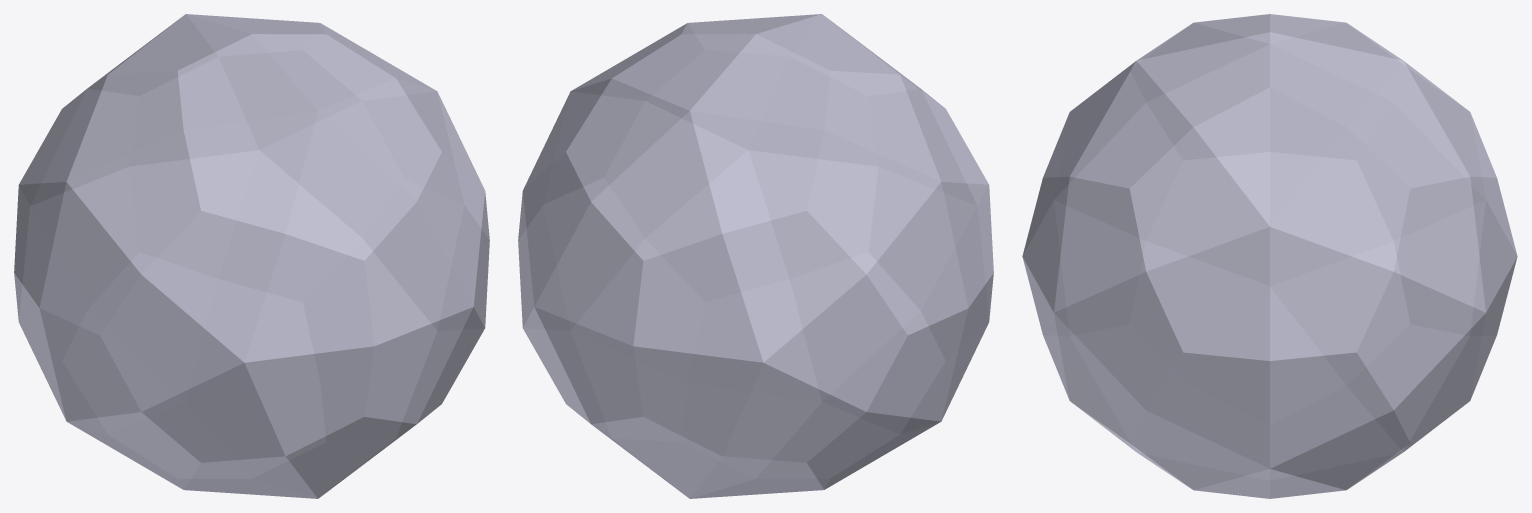
File: DeltoidalHexecontahedron.obj
The picture shows the model from 3 angles, left to right: view 1: azimuth 30°, elevation 25°; view 2: azimuth 150°, elevation 25°; view 3: azimuth 270°, elevation 25°; orthographic projection.
Size of the model in its own units: 4.47 by 4.47 by 4.47.
